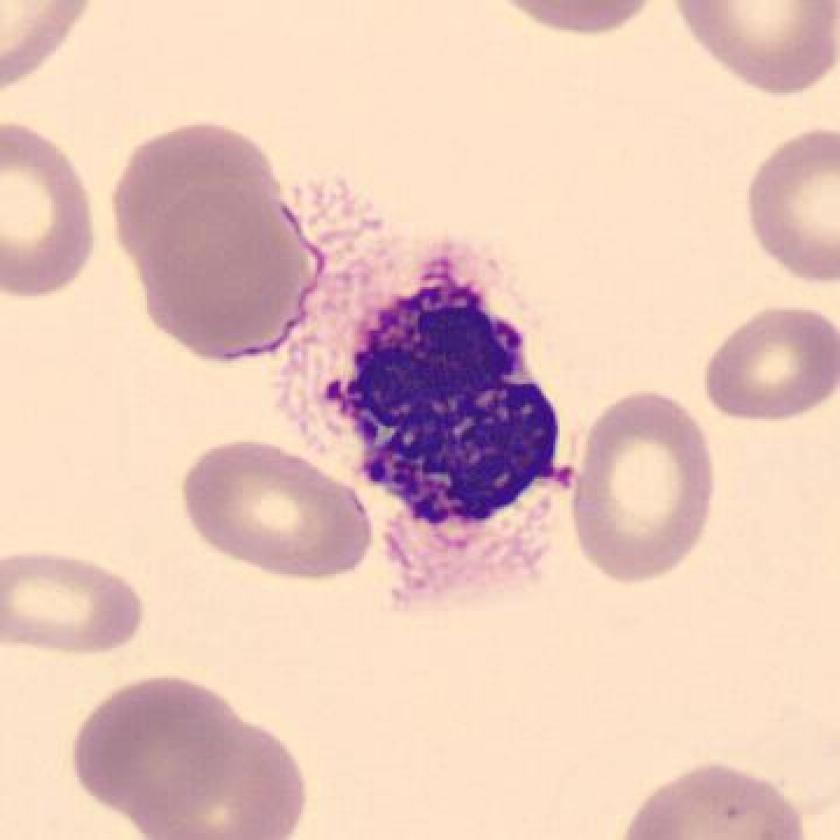basophil: (319, 262, 571, 545)
